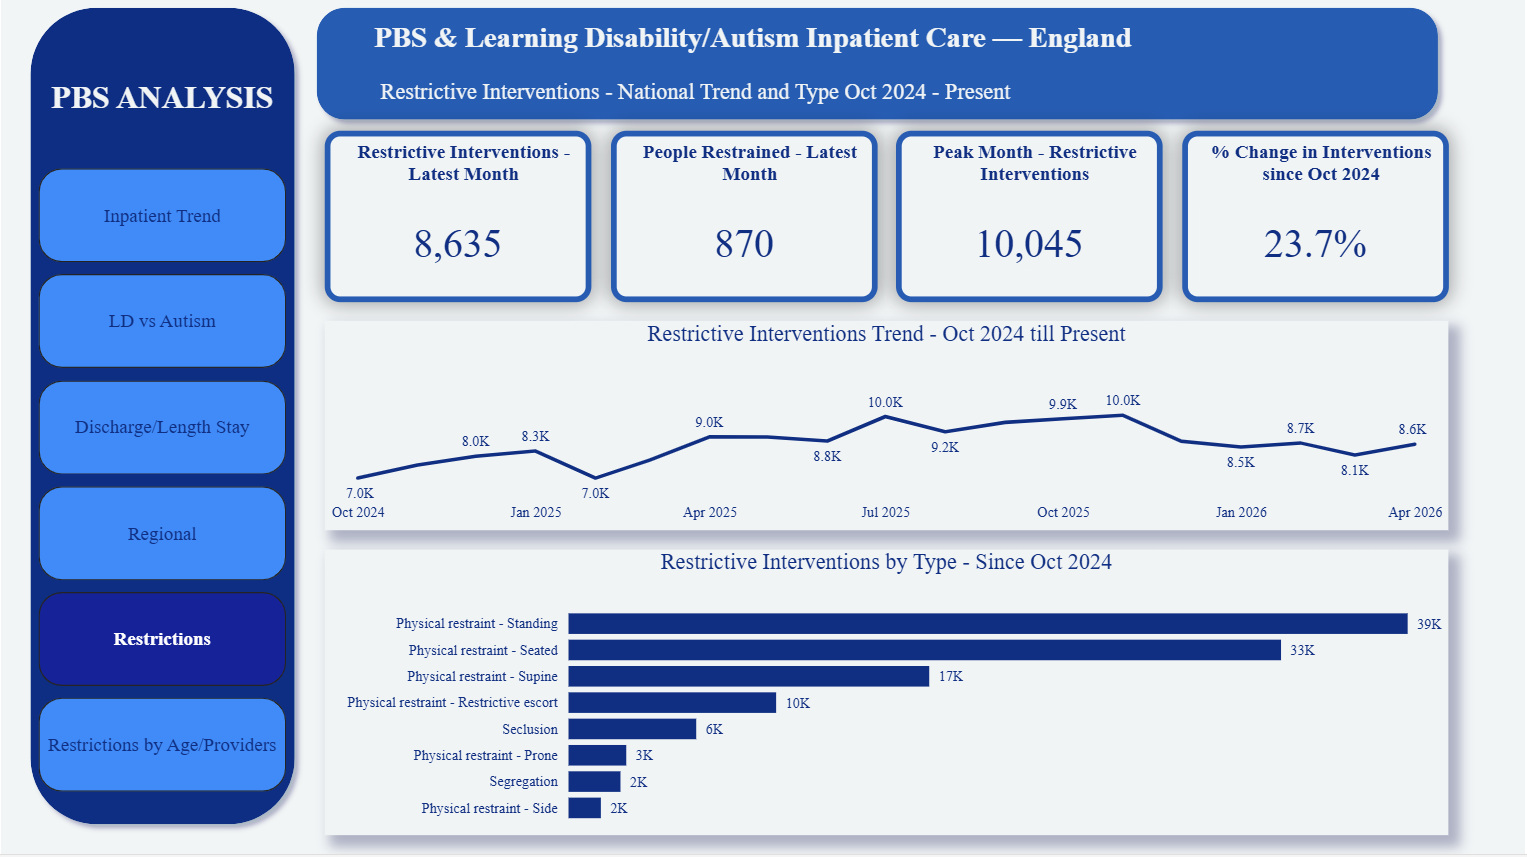

What the dashboard file says about the page in this screenshot:
{"tool":"powerbi","page":{"name":"Restrictions","canvas":[1280,720],"ordinal":4},"visuals":[{"type":"shape","box":[256,0,960,112],"z":0},{"type":"shape","box":[16,0,240,704],"z":1000},{"type":"textbox","box":[288,16,688,48],"z":2000},{"type":"textbox","box":[304,64,560,32],"z":3000},{"type":"cardVisual","title":"Restrictive Interventions - Latest Month","fields":{"Data":["_Measures.Interventions (Latest Month)"]},"box":[272,112,224,144],"z":4000},{"type":"cardVisual","title":"People Restrained - Latest Month","fields":{"Data":["_Measures.People Restrained (Latest Month)"]},"box":[512,112,224,144],"z":5000},{"type":"cardVisual","title":"Peak Month - Restrictive Interventions","fields":{"Data":["_Measures.Peak Interventions"]},"box":[752,112,224,144],"z":6000},{"type":"cardVisual","title":"% Change in Interventions since Oct 2024","fields":{"Data":["_Measures.% Change Since Oct 2024"]},"box":[992,112,224,144],"z":7000},{"type":"lineChart","title":"Restrictive Interventions Trend - Oct 2024 till Present","fields":{"Category":["Dim_Date.Date"],"Y":["_Measures.Interventions (Trend)"]},"box":[272,272,944,176],"z":8000},{"type":"clusteredBarChart","title":"Restrictive Interventions by Type - Since Oct 2024","fields":{"Category":["Fact_Restraint_National_Trend.Restraint_Type"],"Y":["_Measures.Interventions by Type (Since Oct 2024)"]},"box":[272,464,944,240],"z":9000},{"type":"pageNavigator","box":[32,144,208,528],"z":10000},{"type":"textbox","box":[32,64,208,64],"z":10001}]}

Visuals, with their boxes in screenshot pixels (x1, y1, x2, y2), scaled from the page's 1280x720 canvas onto the 1527x857 screenshot:
shape: [305,0,1451,133]
shape: [19,0,305,838]
textbox: [344,19,1164,76]
textbox: [363,76,1031,114]
"Restrictive Interventions - Latest Month" cardVisual: [324,133,592,305]
"People Restrained - Latest Month" cardVisual: [611,133,878,305]
"Peak Month - Restrictive Interventions" cardVisual: [897,133,1164,305]
"% Change in Interventions since Oct 2024" cardVisual: [1183,133,1451,305]
"Restrictive Interventions Trend - Oct 2024 till Present" lineChart: [324,324,1451,533]
"Restrictive Interventions by Type - Since Oct 2024" clusteredBarChart: [324,552,1451,838]
pageNavigator: [38,171,286,800]
textbox: [38,76,286,152]
